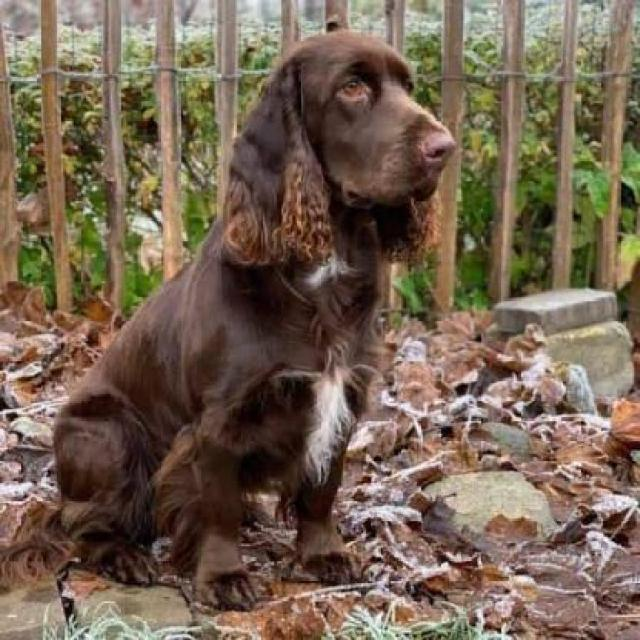animals: (51, 26, 458, 592)
